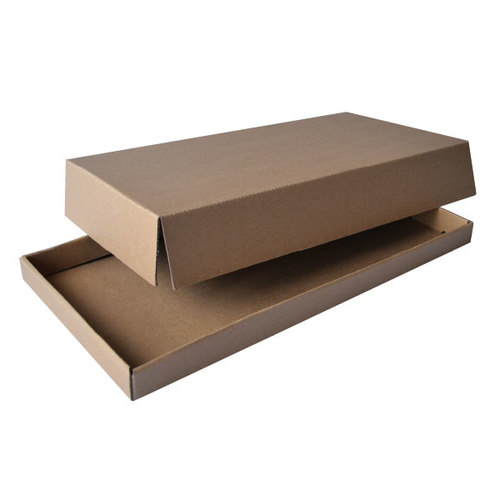Rec_Paper: (2, 71, 489, 408)
